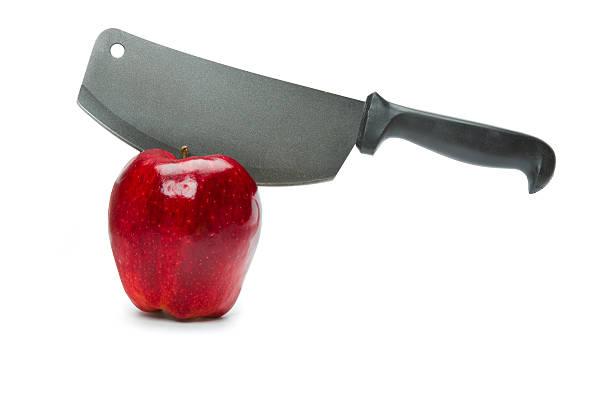knife: (72, 26, 558, 196)
